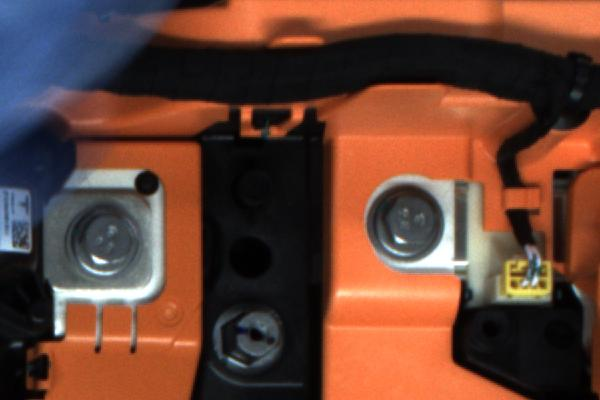nut_b: (52, 200, 144, 283), (359, 183, 450, 264)
